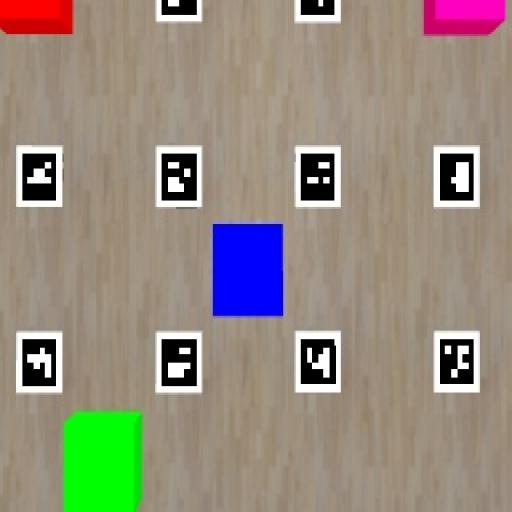car: (63, 410, 142, 511), (213, 224, 284, 317), (423, 0, 505, 36)
fire: (0, 0, 73, 34)
